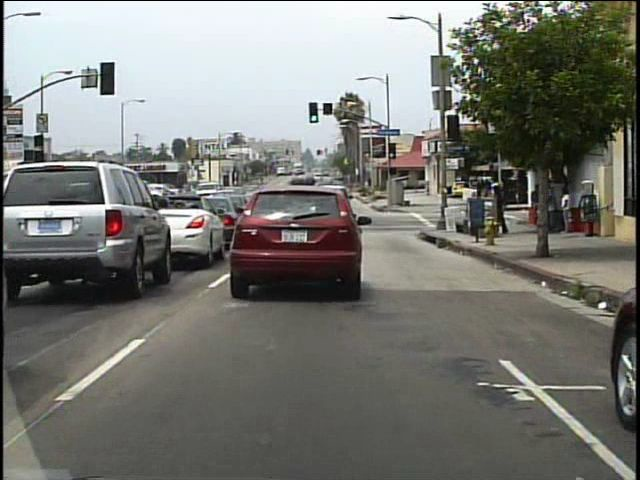person: (559, 186, 574, 234), (498, 182, 511, 235), (529, 183, 543, 223), (550, 182, 551, 235)
